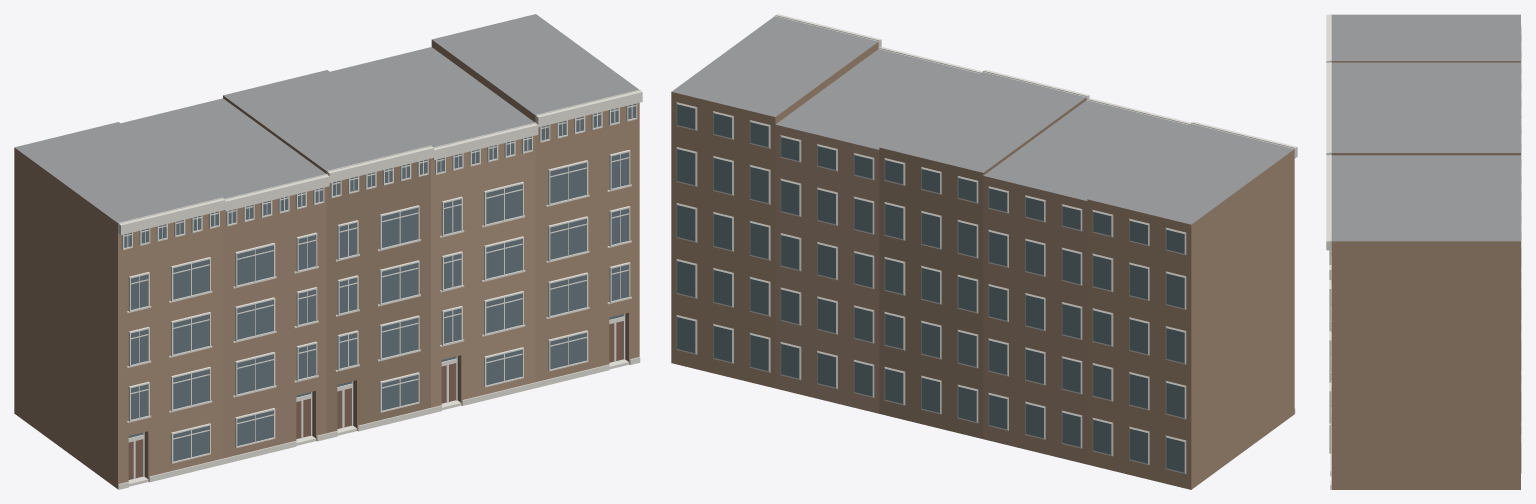
The model's file is chunk-face-haring-6-18-r1.glb.
The picture shows the model from 3 angles, left to right: view 1: azimuth 30°, elevation 25°; view 2: azimuth 150°, elevation 25°; view 3: azimuth 270°, elevation 25°; orthographic projection. The views are drawn at different scales.
Parts seen in each view (by area): view 1: face-haring-6-18-r1; view 2: face-haring-6-18-r1; view 3: face-haring-6-18-r1.
Part boxes in pixels (x1,y1,x2,y2): face-haring-6-18-r1: (14, 14, 642, 489); face-haring-6-18-r1: (671, 14, 1297, 489); face-haring-6-18-r1: (1326, 14, 1521, 489).
Size of the model in its own units: 30.5 by 15.25 by 10.84.
